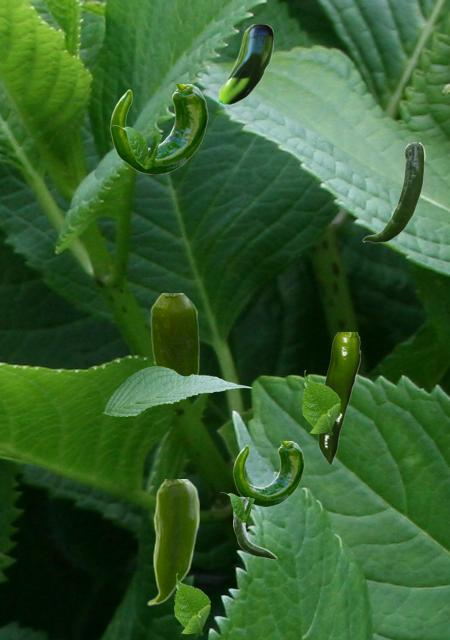green_chili: (110, 84, 207, 173), (146, 479, 198, 605), (362, 142, 424, 242), (318, 332, 359, 464), (233, 441, 303, 505), (216, 24, 272, 104), (150, 293, 198, 374), (233, 497, 276, 558)
